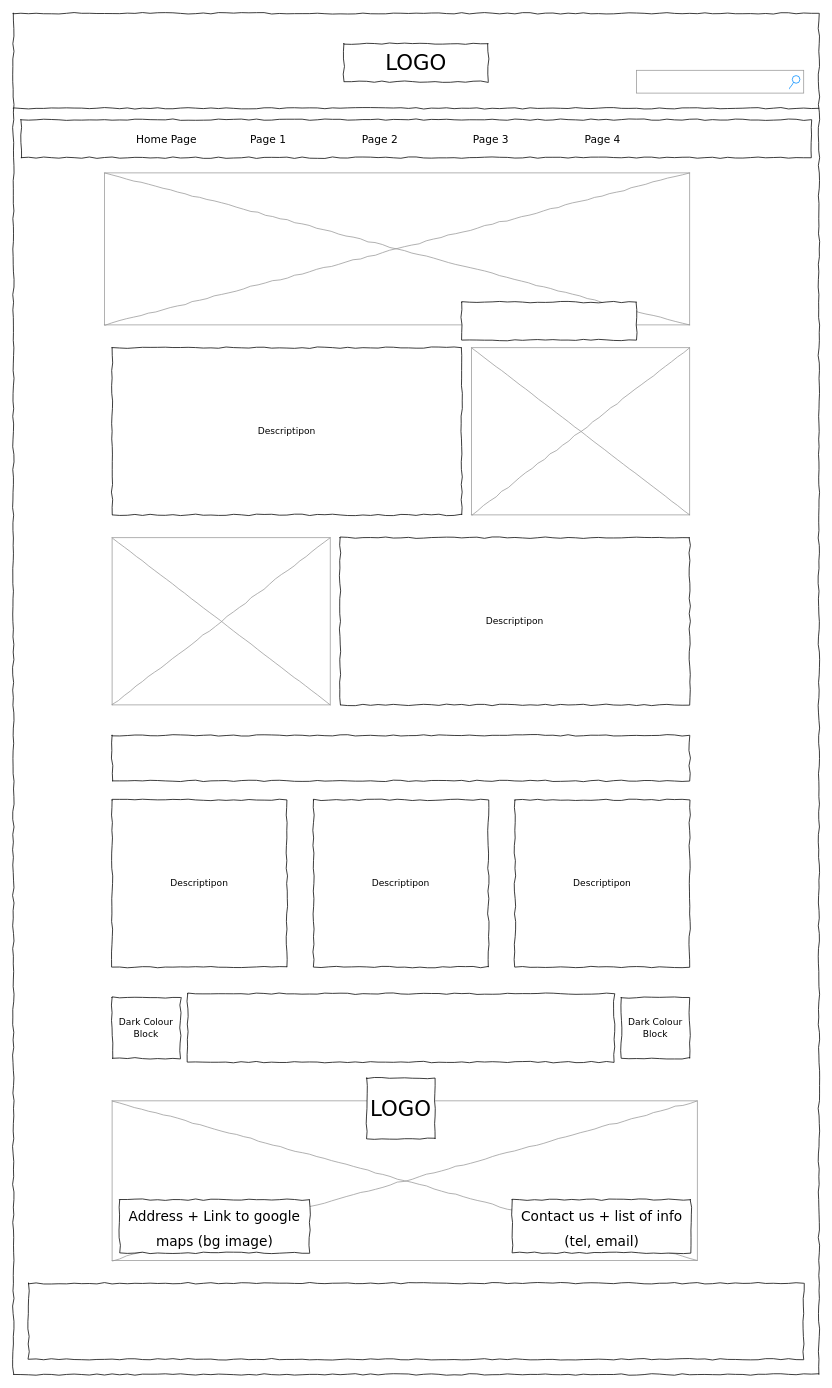
The diagram is 832 pixels wide and 1388 high, and some of its shapes have lost their labels. The shapes that lost their labels are listed below. From the top down, each one's centre as x and y in pixels, then its label:
(720,81): Search
(548,320): Enrol / Enquire
(400,758): Heading
(400,1027): Page Nav
(416,1320): Footer
